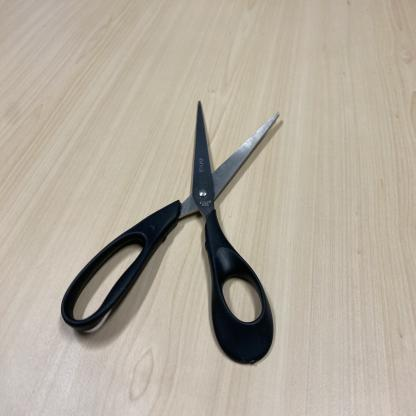scissors: (58, 102, 281, 365)
